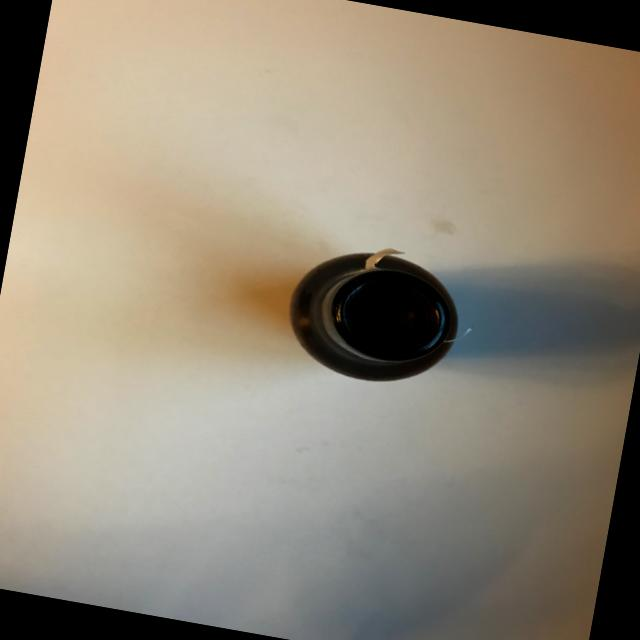Glass: (238, 192, 524, 462)
